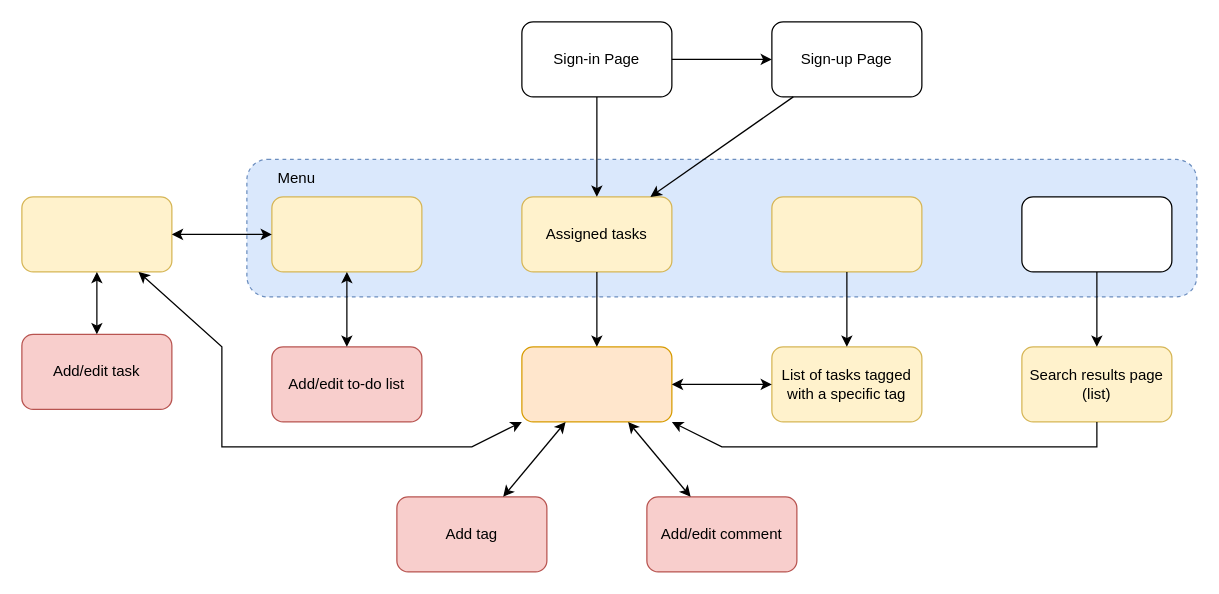
Image size: 1219x594. Some labels were removed from this diagram. The box of each missing label's shape, as (x1, y1, x2, y2) in pixels:
List of all tags: (771, 196, 922, 272)
List of tasks: (21, 196, 172, 272)
List of to-do lists: (271, 196, 422, 272)
Search page: (1021, 196, 1172, 272)
Task details page: (521, 346, 672, 422)
